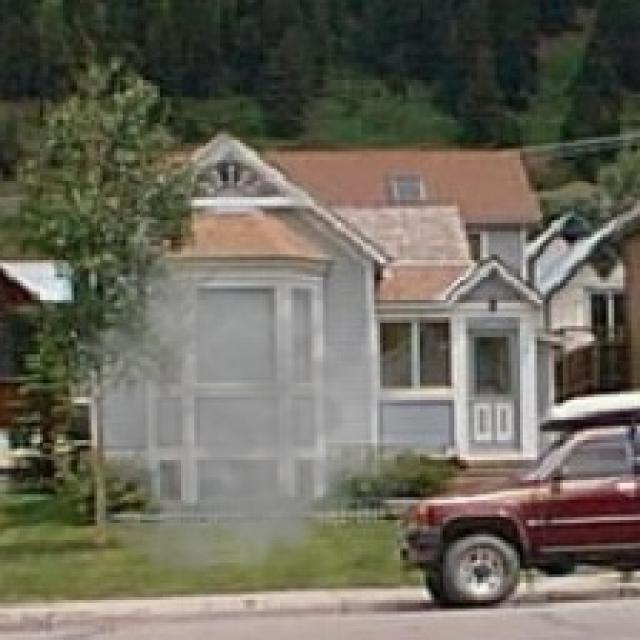smoke: (57, 246, 429, 608)
